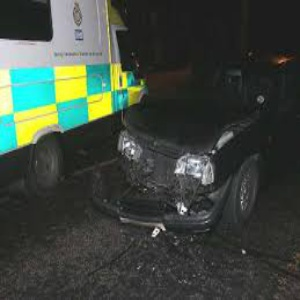bumper: (93, 184, 225, 239)
head_lights: (171, 152, 218, 188)
